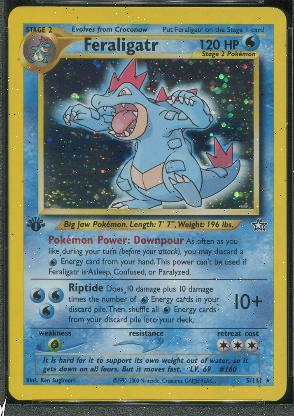Card: (6, 6, 288, 402)
